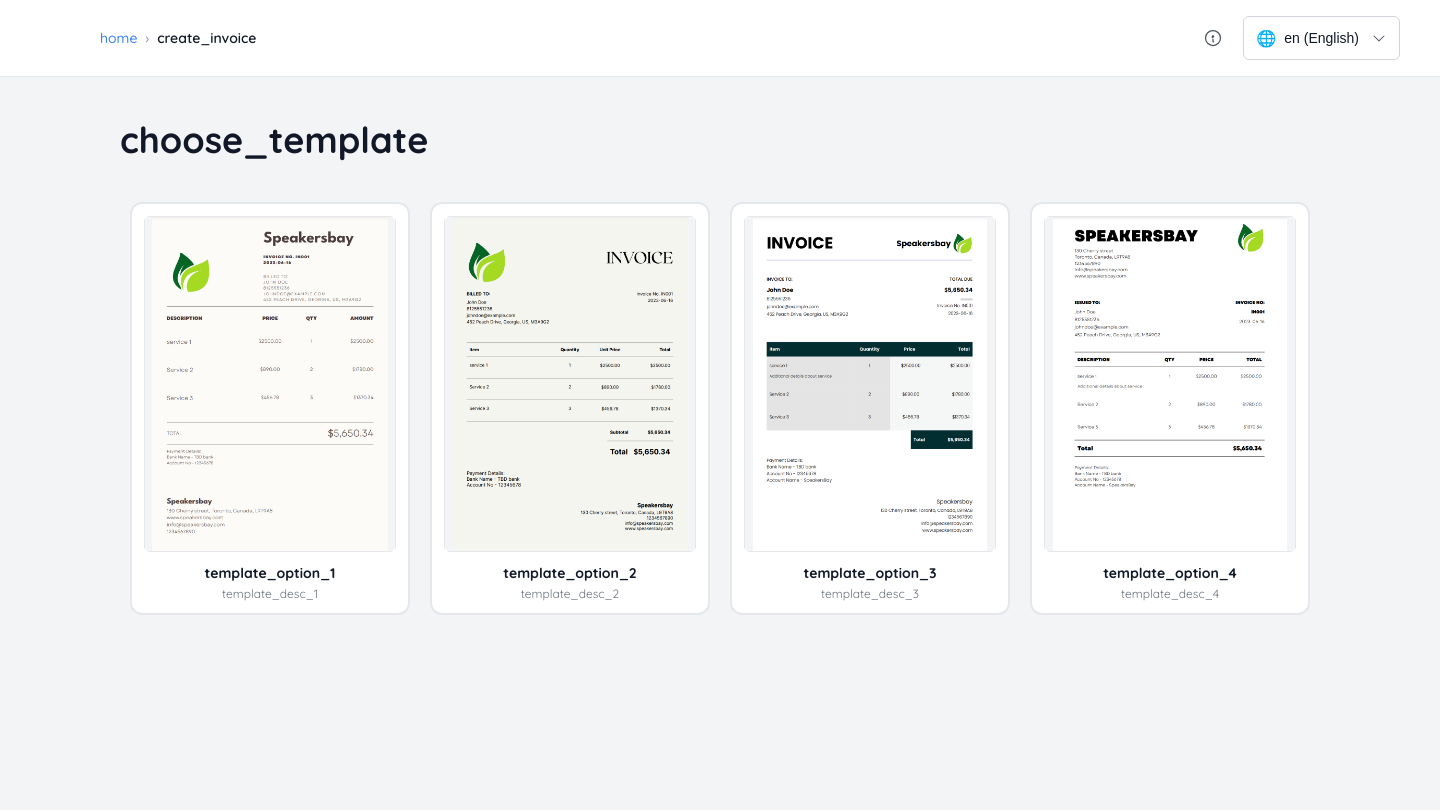
Scenario: Templates Page › handles loading example data
Click the radio button labelled "template_option_1 template_desc_1". click: (270, 216)
box: [144,216,396,601]
(page scrolled)
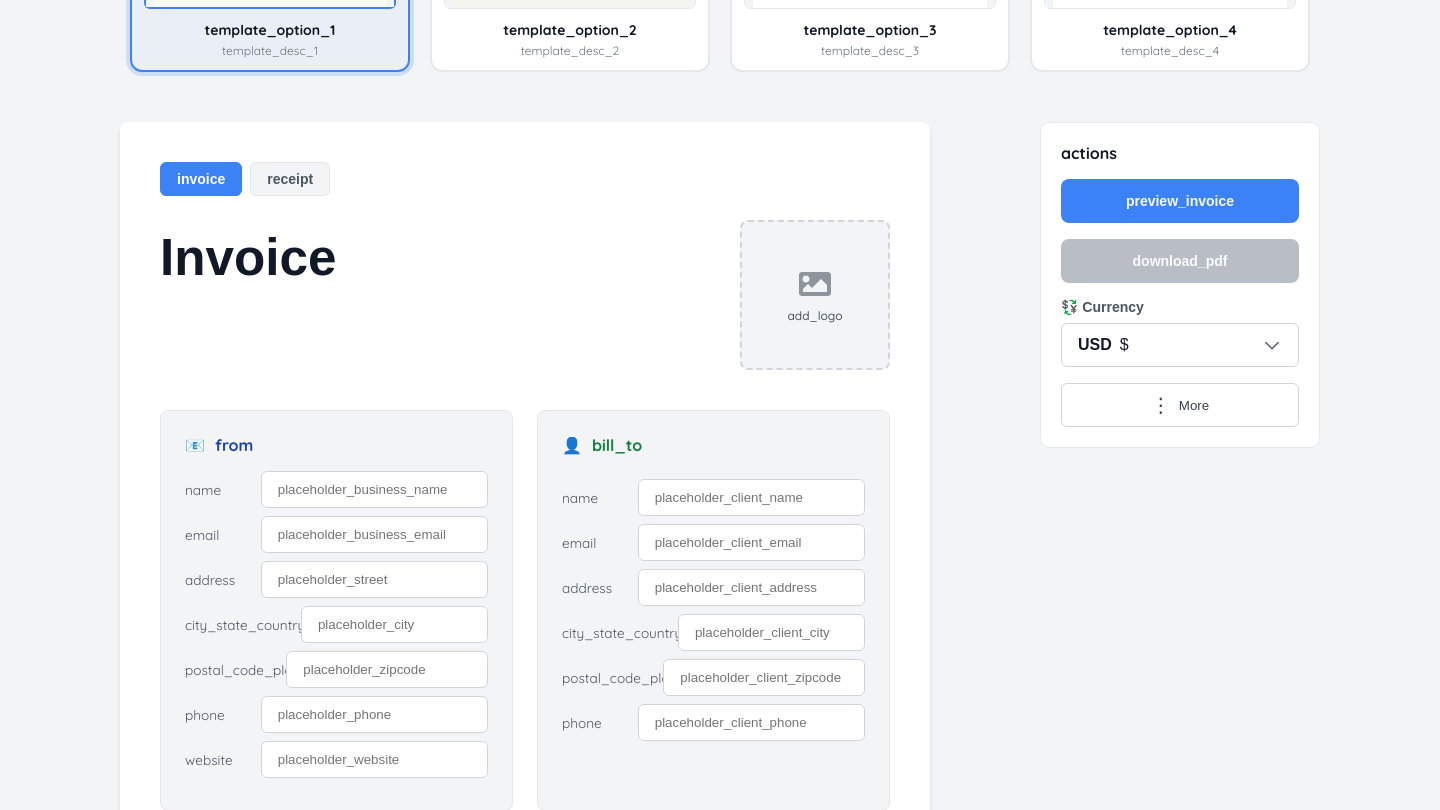
Click the text "More". click: (1194, 405)
box: [1179,398,1209,412]
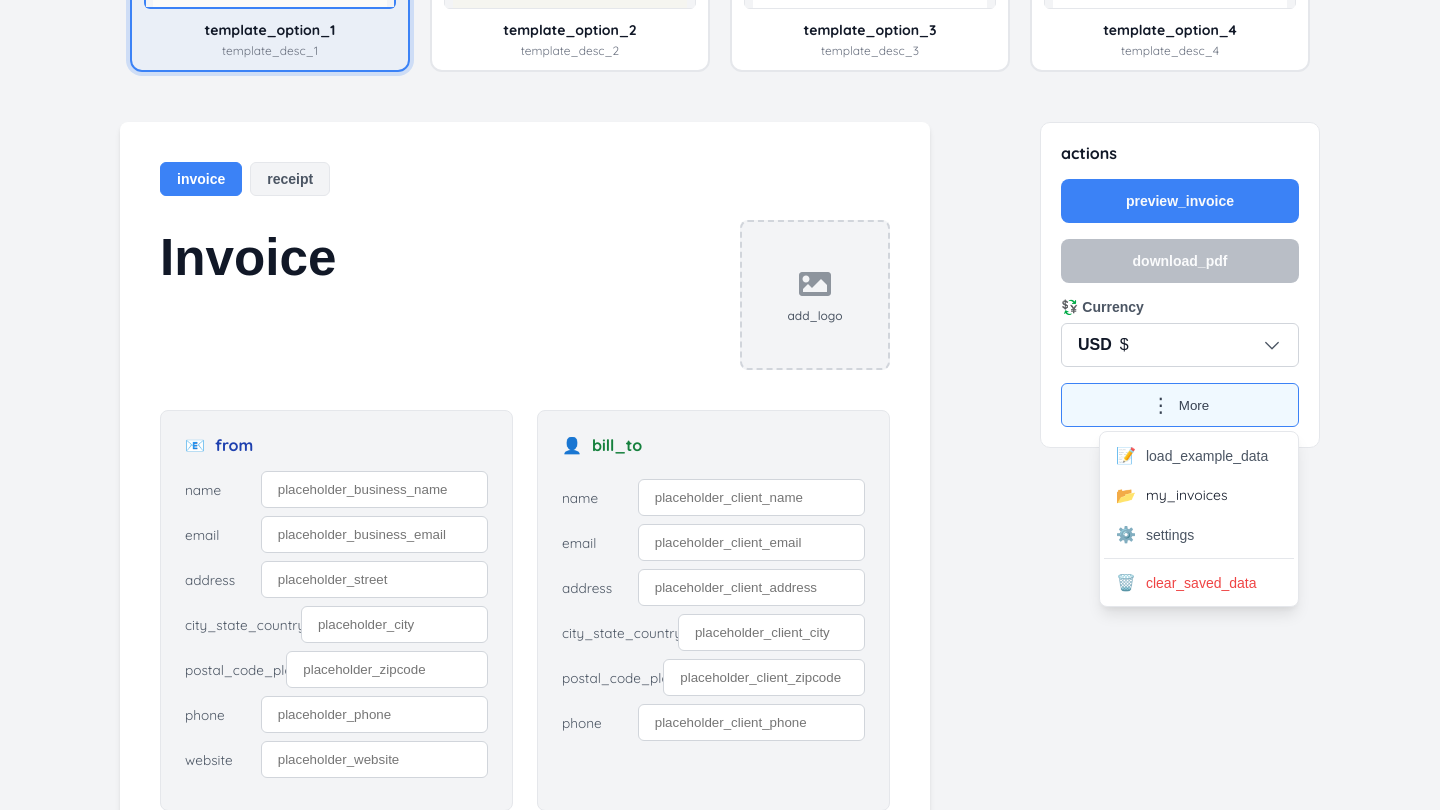
Click the menu item "📝 load_example_data". click: (1199, 456)
box: [1104,436,1294,475]
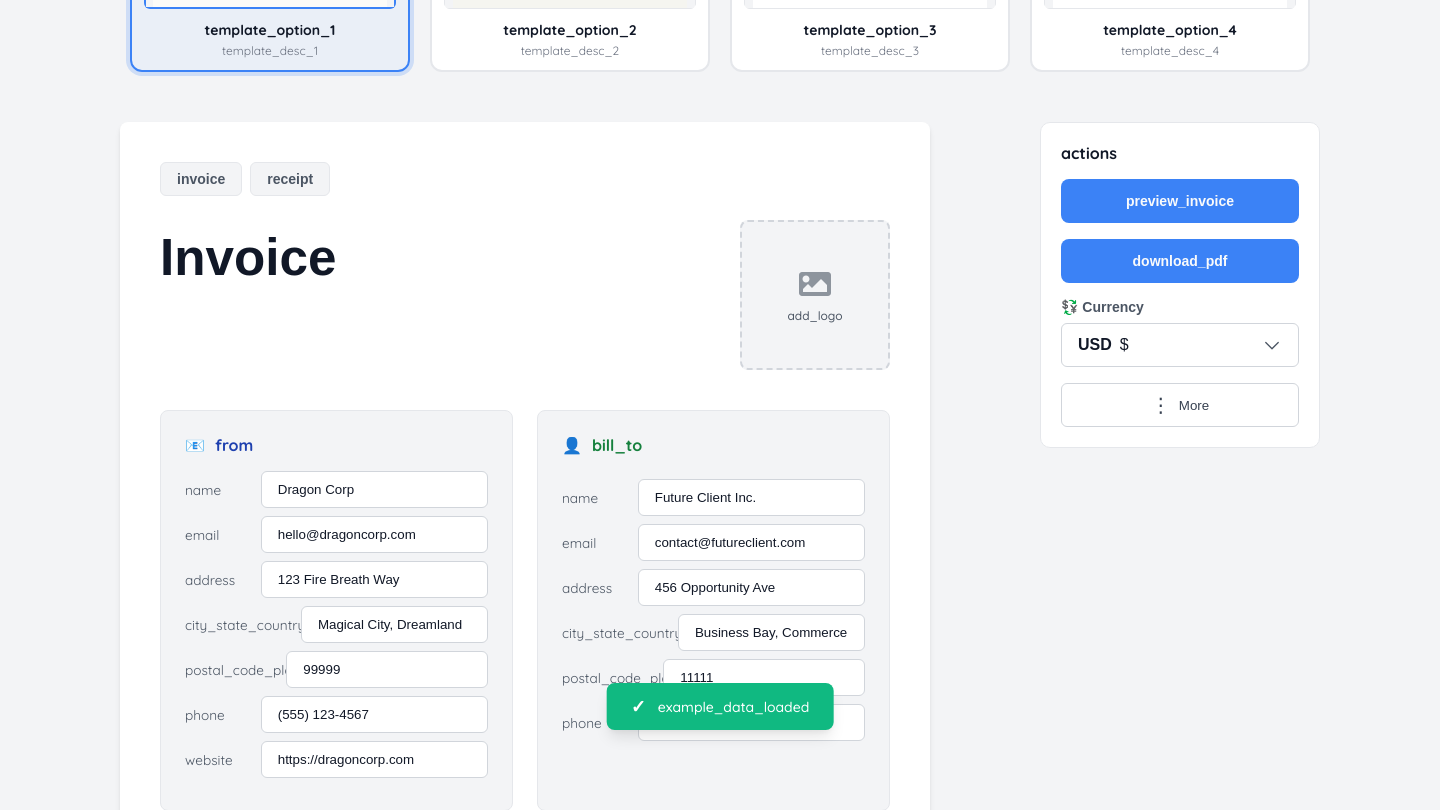
Expected: the field showing "Dragon Corp" below "from" is shown, [261,471,488,508]
